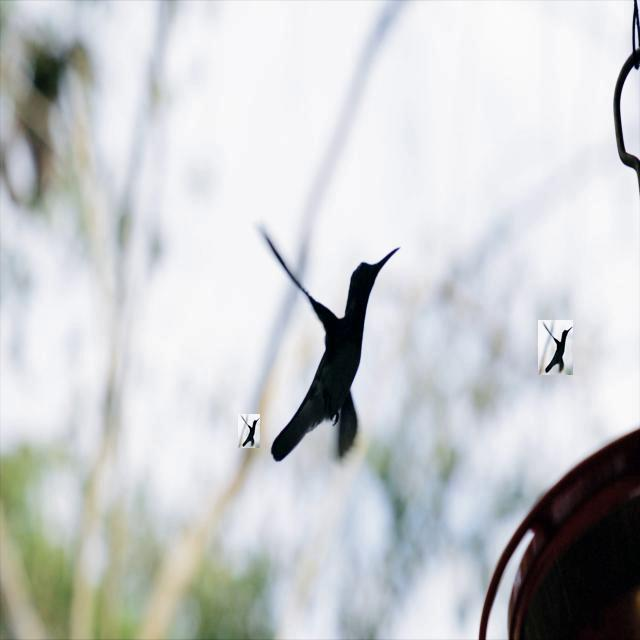bird: (256, 222, 400, 466), (538, 318, 574, 377), (238, 412, 262, 451)
